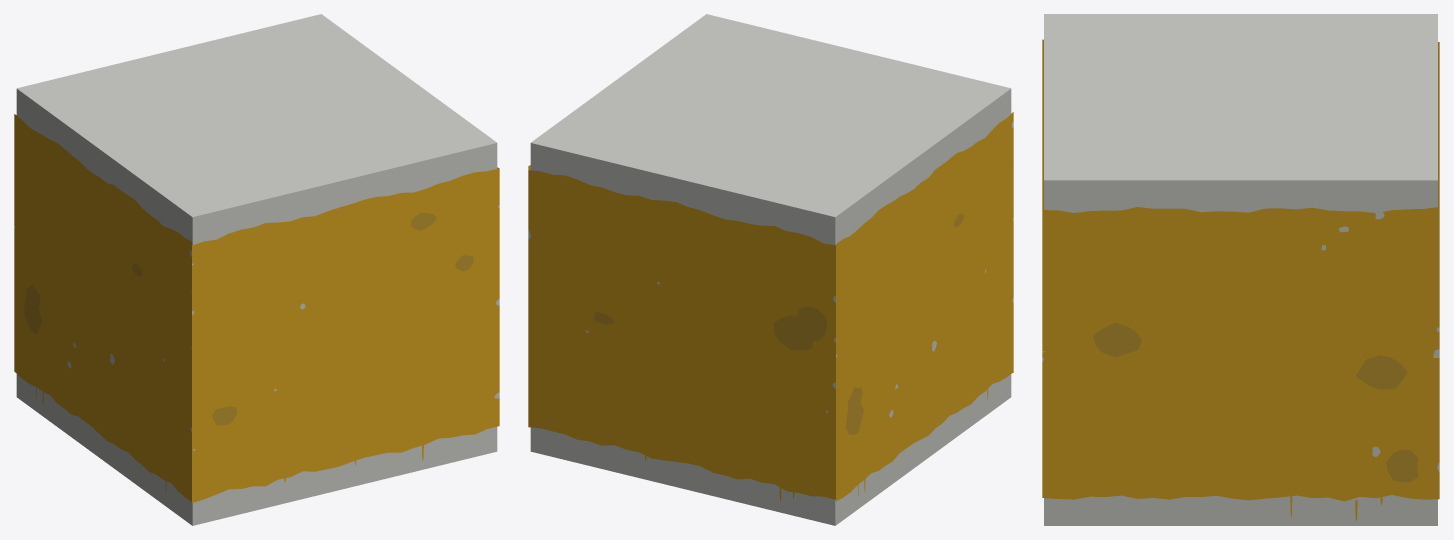
The model's file is pillar_band_gelb.glb.
The picture shows the model from 3 angles, left to right: view 1: azimuth 30°, elevation 25°; view 2: azimuth 150°, elevation 25°; view 3: azimuth 270°, elevation 25°; orthographic projection. The views are drawn at different scales.
Parts seen in each view (by area): view 1: band; view 2: band; view 3: band.
Boxes of the visible parts, x1,y1,x2,y2 form: band: [14, 14, 499, 525]; band: [528, 14, 1013, 525]; band: [1042, 14, 1439, 525].
Bounding box in the file's own units: 1 × 0.96 × 1.
